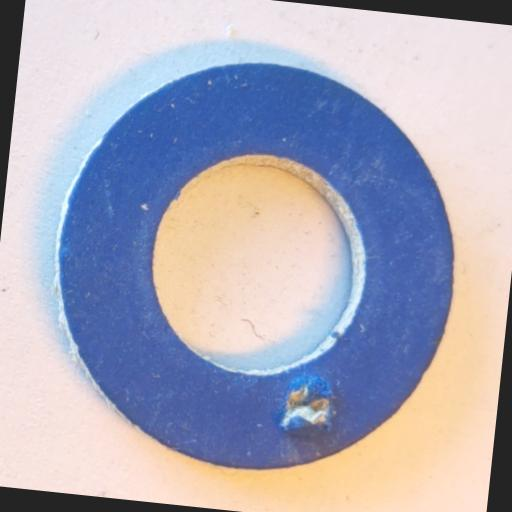defect: (279, 370, 340, 440)
